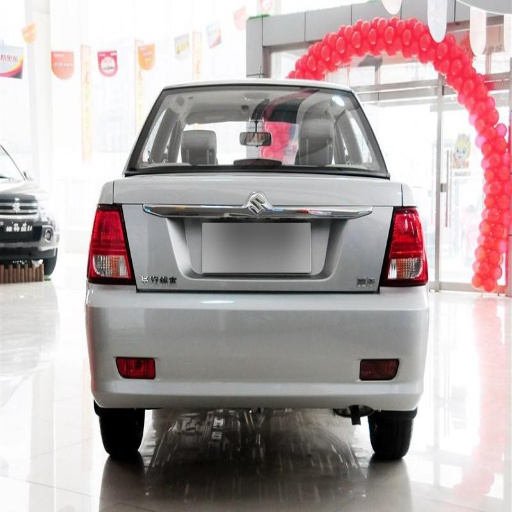back_bumper: (83, 282, 425, 410)
tailgate: (112, 168, 400, 293)
trunk: (195, 173, 355, 262), (285, 294, 377, 344)
